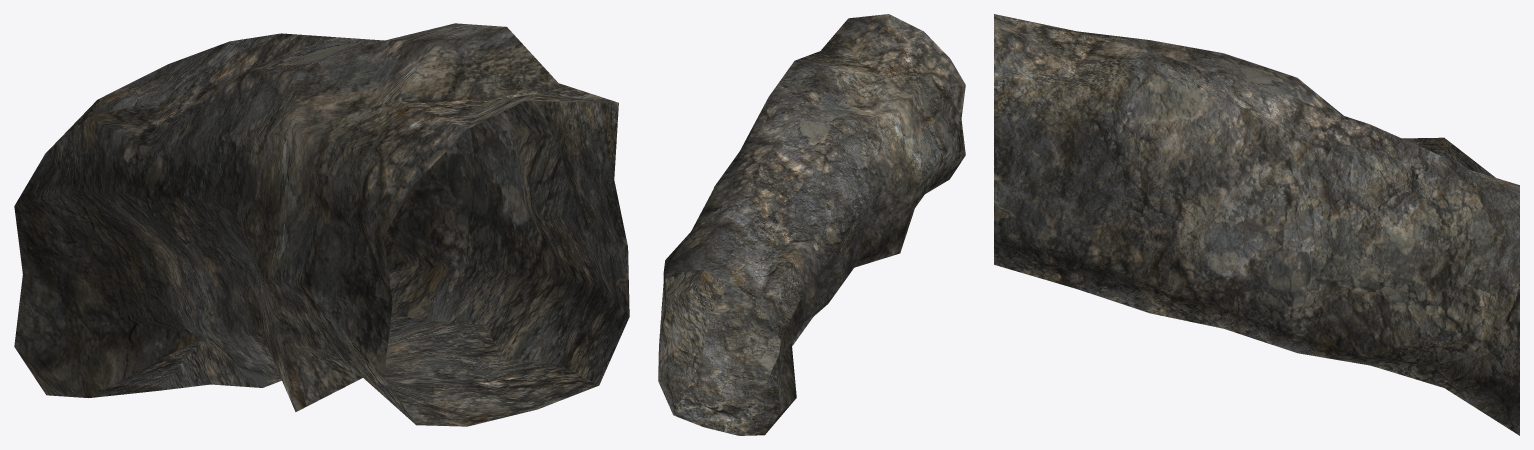
The model's file is cave_piece_09.glb.
3 renders of one model, left to right at view 1: azimuth 30°, elevation 25°; view 2: azimuth 150°, elevation 25°; view 3: azimuth 270°, elevation 25°, orthographic. The views are drawn at different scales.
Parts seen in each view (by area): view 1: mine_09_mine_0; view 2: mine_09_mine_0; view 3: mine_09_mine_0.
Part boxes in pixels (<box>): mine_09_mine_0: <box>14,23,629,426</box>; mine_09_mine_0: <box>658,14,965,435</box>; mine_09_mine_0: <box>994,14,1519,435</box>.
Size of the model in its own units: 4.57 by 7.66 by 9.23.
1 material, 1 textured.
